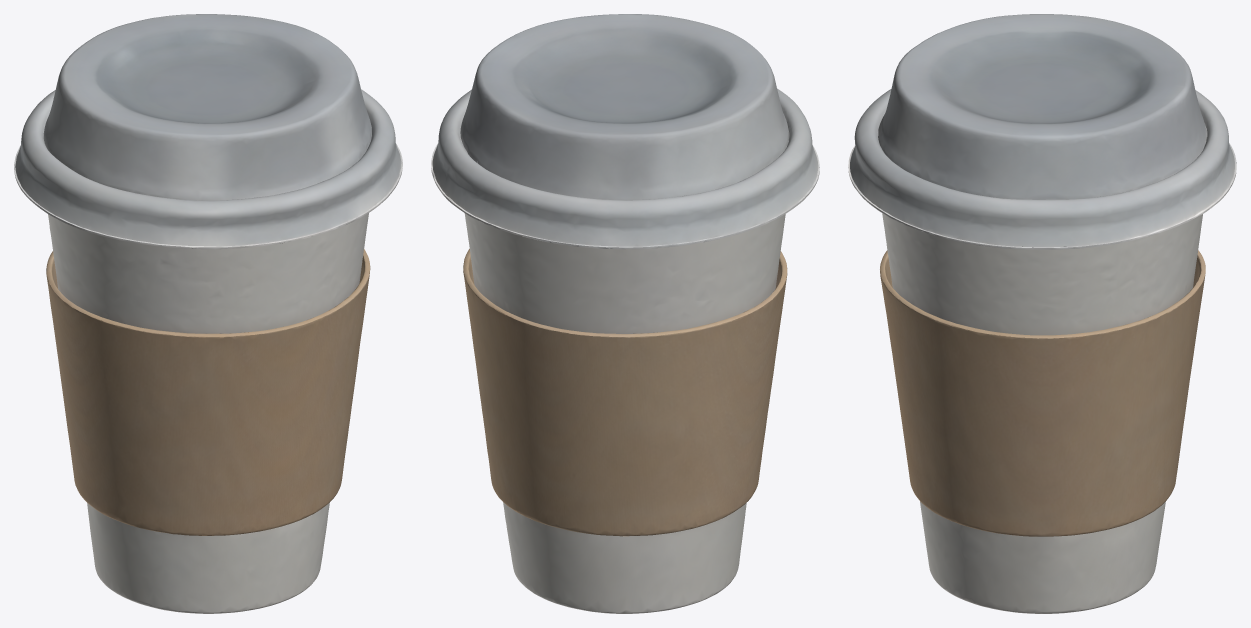
Rendered from cup.glb.
3 renders of one model, left to right at view 1: azimuth 30°, elevation 25°; view 2: azimuth 150°, elevation 25°; view 3: azimuth 270°, elevation 25°, orthographic.
Parts seen in each view (by area): view 1: model; view 2: model; view 3: model.
Boxes of the visible parts, bbox=[...] form: model: bbox=[14, 14, 402, 613]; model: bbox=[431, 14, 819, 613]; model: bbox=[848, 14, 1236, 613].
Size of the model in its own units: 1.36 by 1.9 by 1.36.
1 material, 1 textured.
